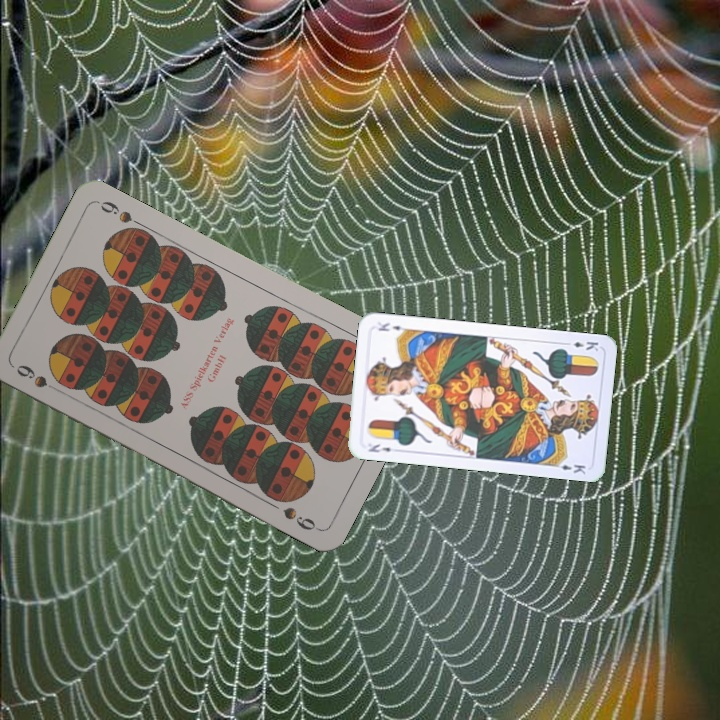EK: (561, 337, 601, 353), (364, 440, 393, 455)
S9: (12, 360, 66, 396)
